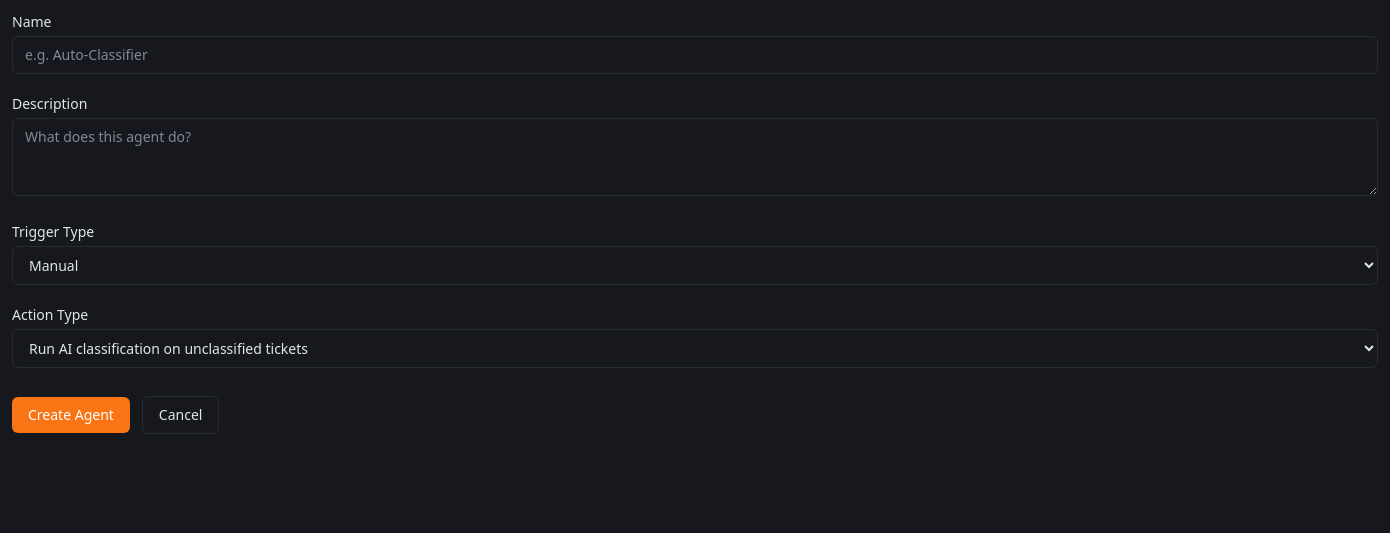
Scenario: AgentForm › shows webhook field when custom_webhook action selected
Step 1. Select "Custom webhook" in the dropdown with test id "agent-action-select" → {"x": 695, "y": 348}, box [12,329,1378,368]
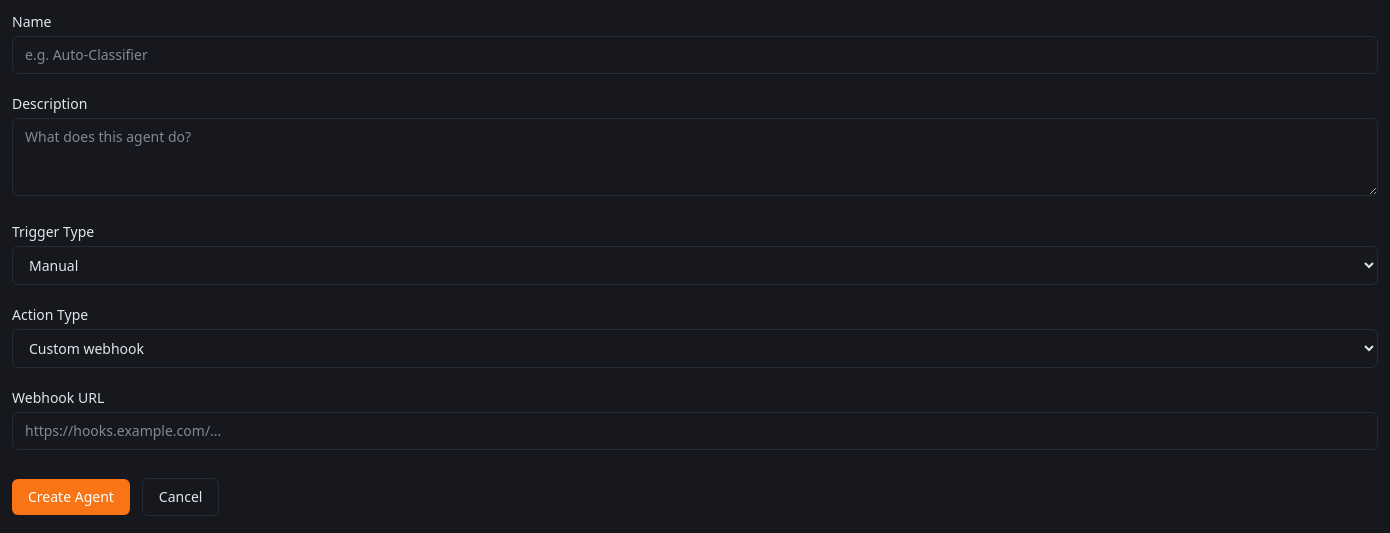
Now the field with test id "agent-webhook-input" is shown, box [12,412,1378,450]
